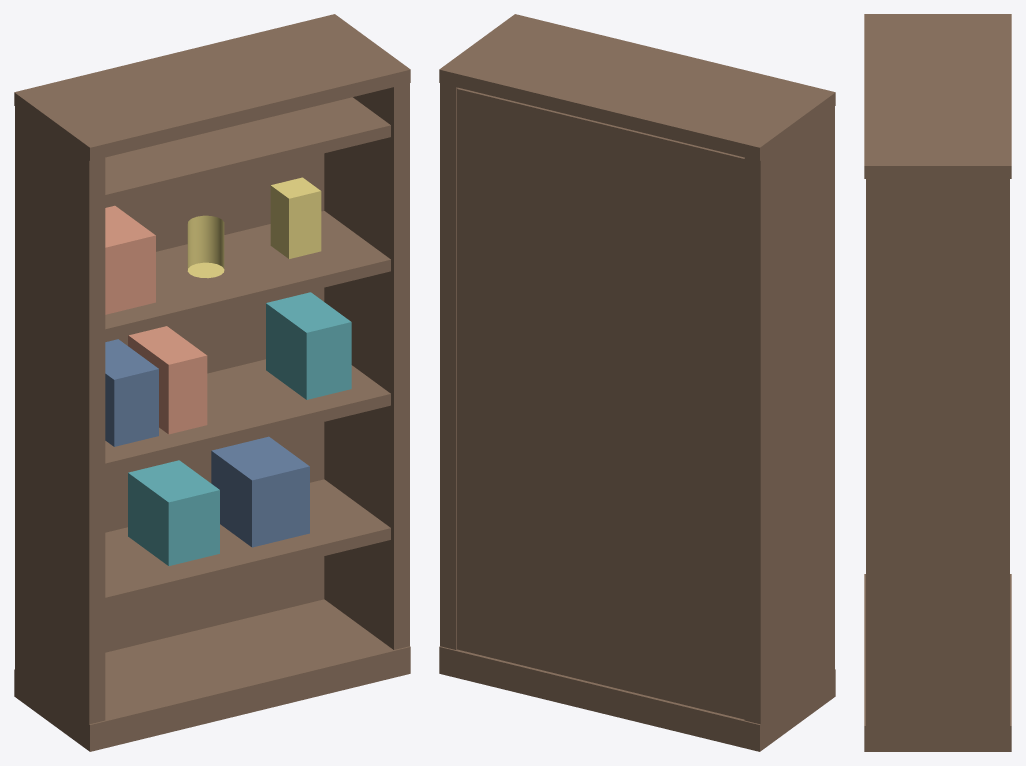
The model's file is BOOKSHELF001.glb.
3 renders of one model, left to right at view 1: azimuth 30°, elevation 25°; view 2: azimuth 150°, elevation 25°; view 3: azimuth 270°, elevation 25°, orthographic. The views are drawn at different scales.
Parts seen in each view (by area): view 1: FurnitureRoot; view 2: FurnitureRoot; view 3: FurnitureRoot.
Boxes of the visible parts, x1=… form: FurnitureRoot: x1=14, y1=14, x2=410, y2=751; FurnitureRoot: x1=439, y1=14, x2=835, y2=751; FurnitureRoot: x1=864, y1=14, x2=1011, y2=751.
Bounding box in the file's own units: 100 × 180 × 41.
